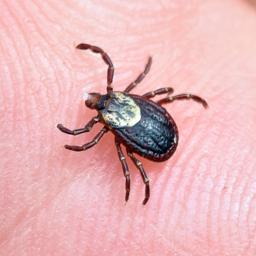Dermacentor variabilis: (55, 43, 210, 205)
